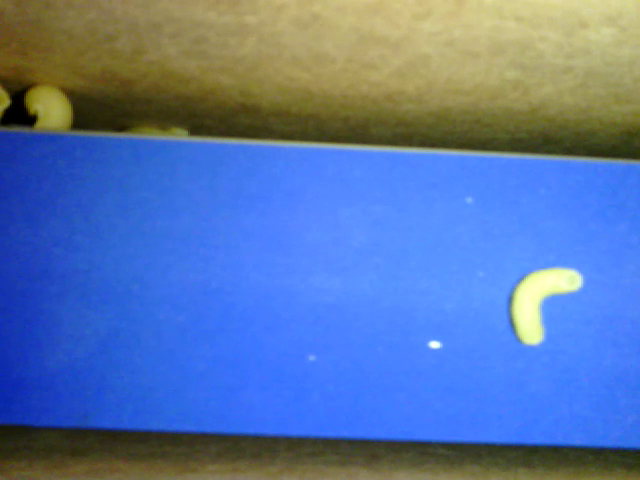elbow: (507, 264, 584, 345)
shell: (22, 84, 76, 132)
